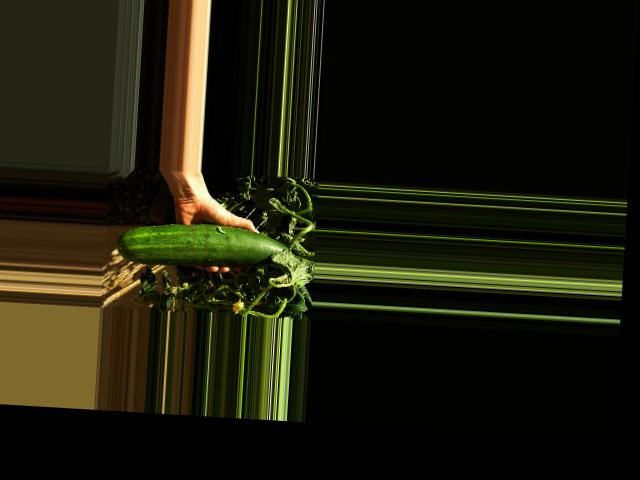cucumber: (115, 219, 292, 272)
